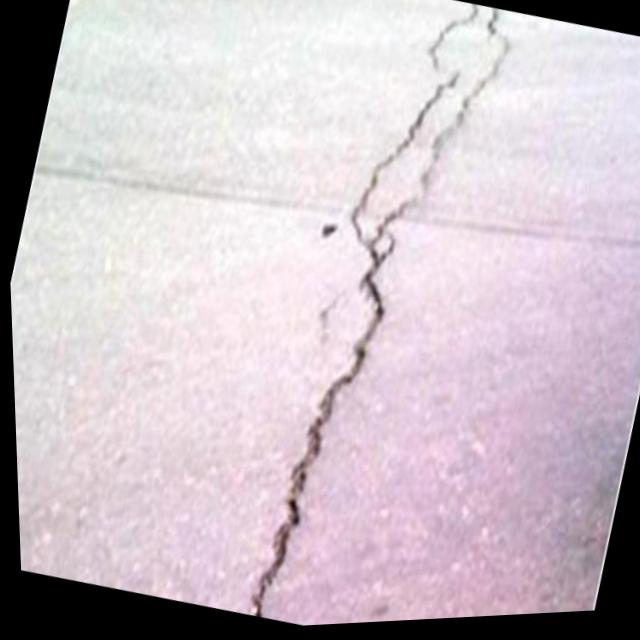Crack: (236, 265, 406, 631), (325, 0, 541, 287)
